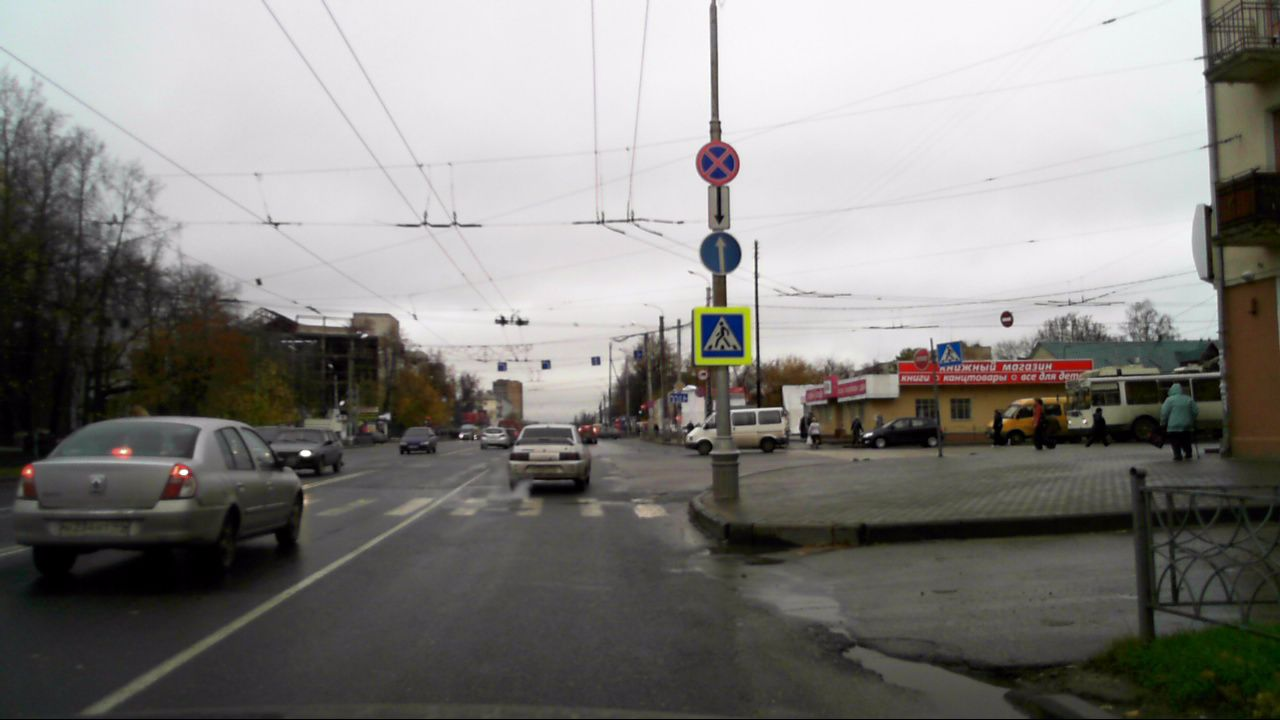No Parking: (695, 141, 739, 184)
